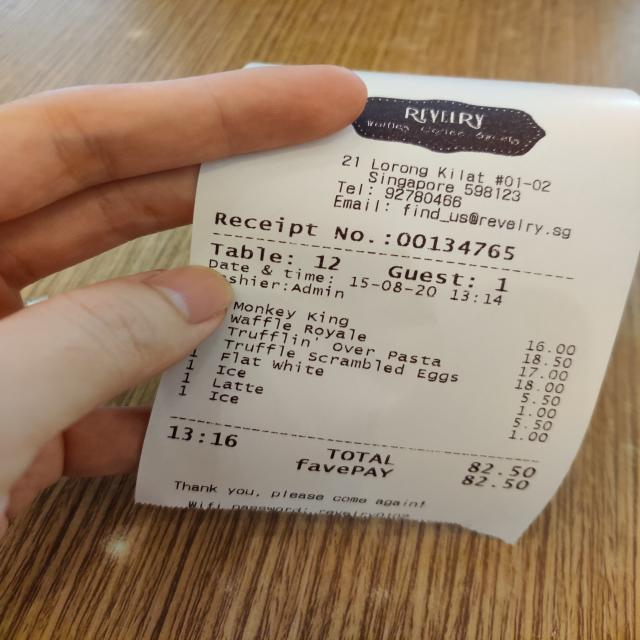bill_region: (192, 289, 584, 487)
